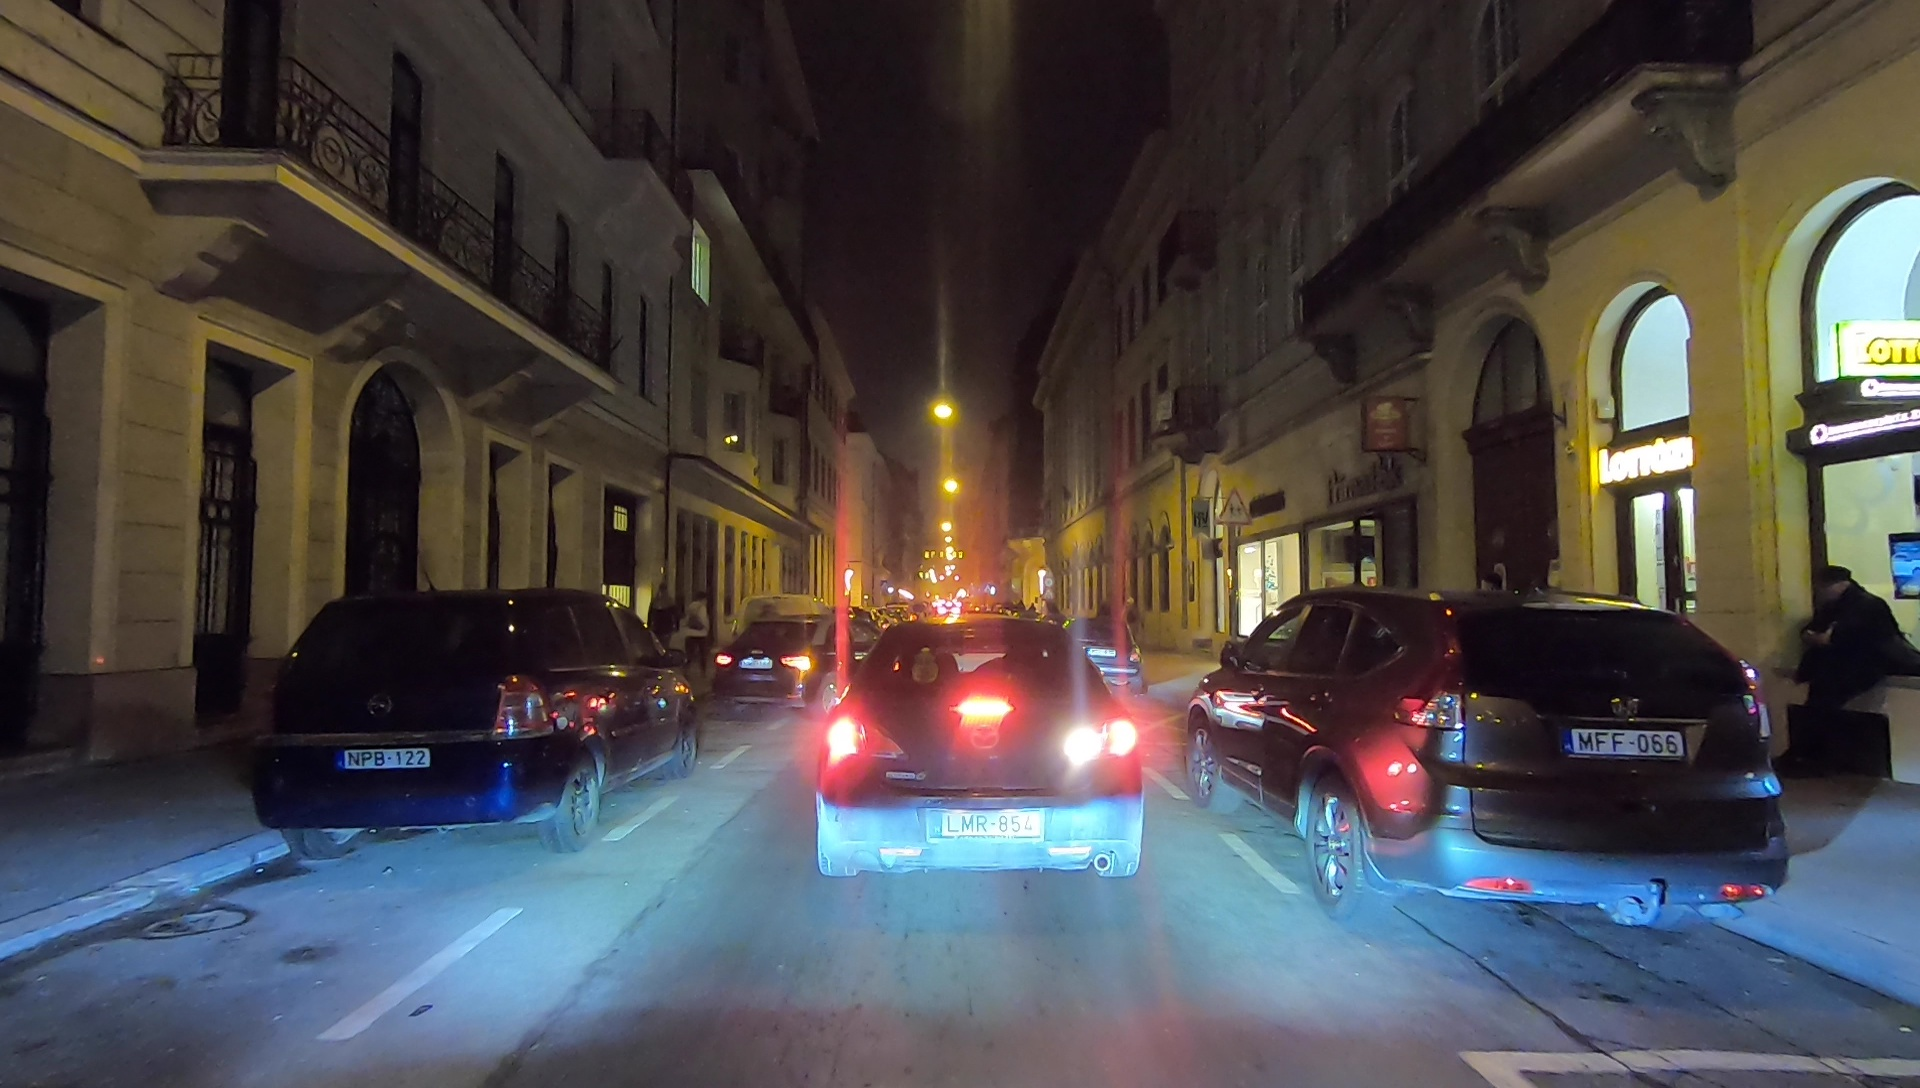person: (1797, 569, 1888, 769), (647, 582, 684, 678), (684, 595, 712, 674)
